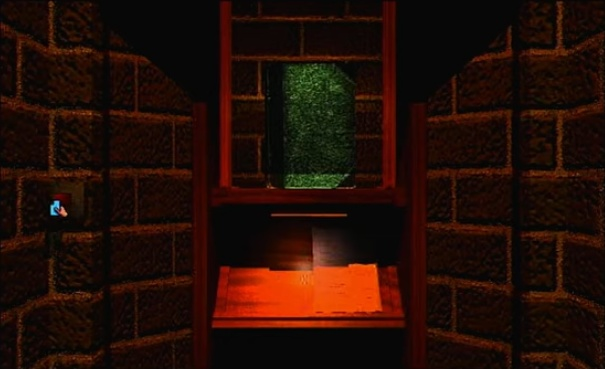Keep: (46, 197, 71, 220)
